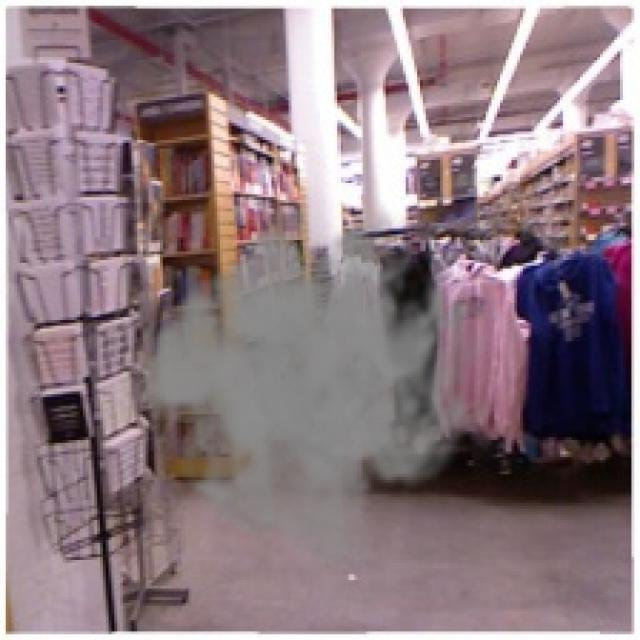Smoke: (134, 188, 492, 578)
